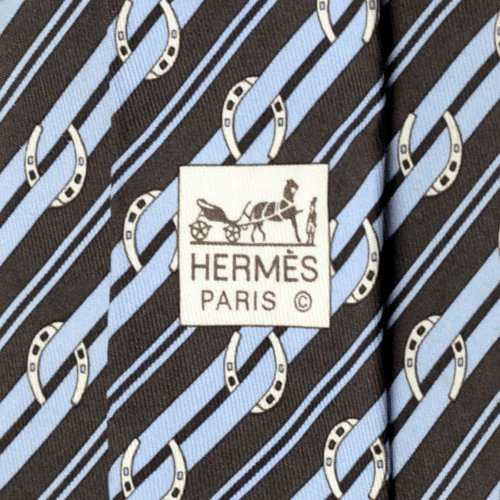HERMES: (182, 169, 327, 328)
